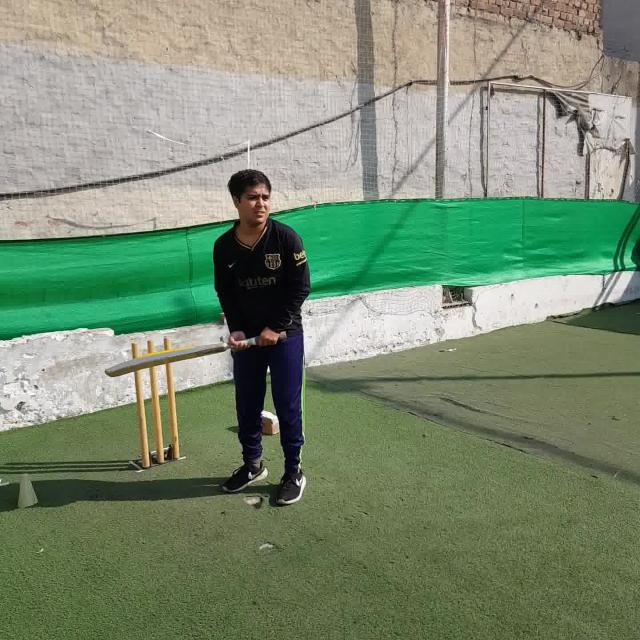bat: (108, 328, 290, 372)
